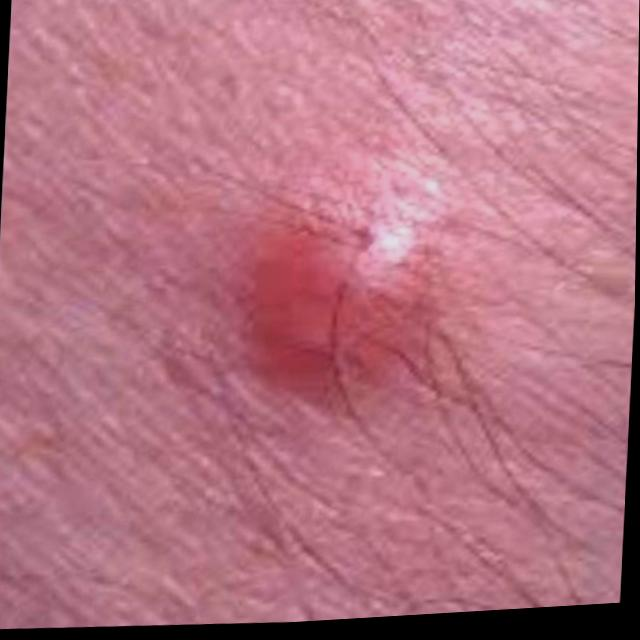nodule: (201, 184, 455, 453)
